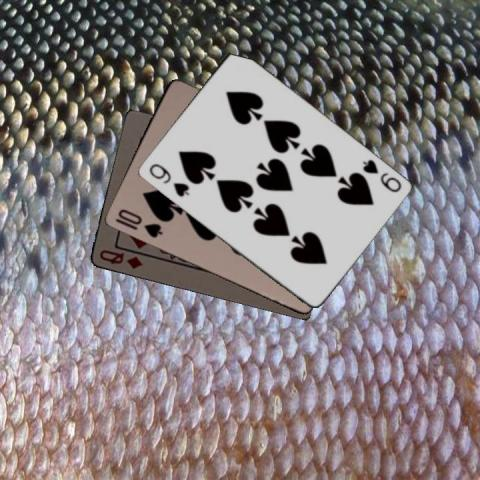10s: (114, 206, 162, 239)
9s: (145, 160, 191, 199), (359, 156, 402, 194)
Qd: (96, 246, 144, 270)
